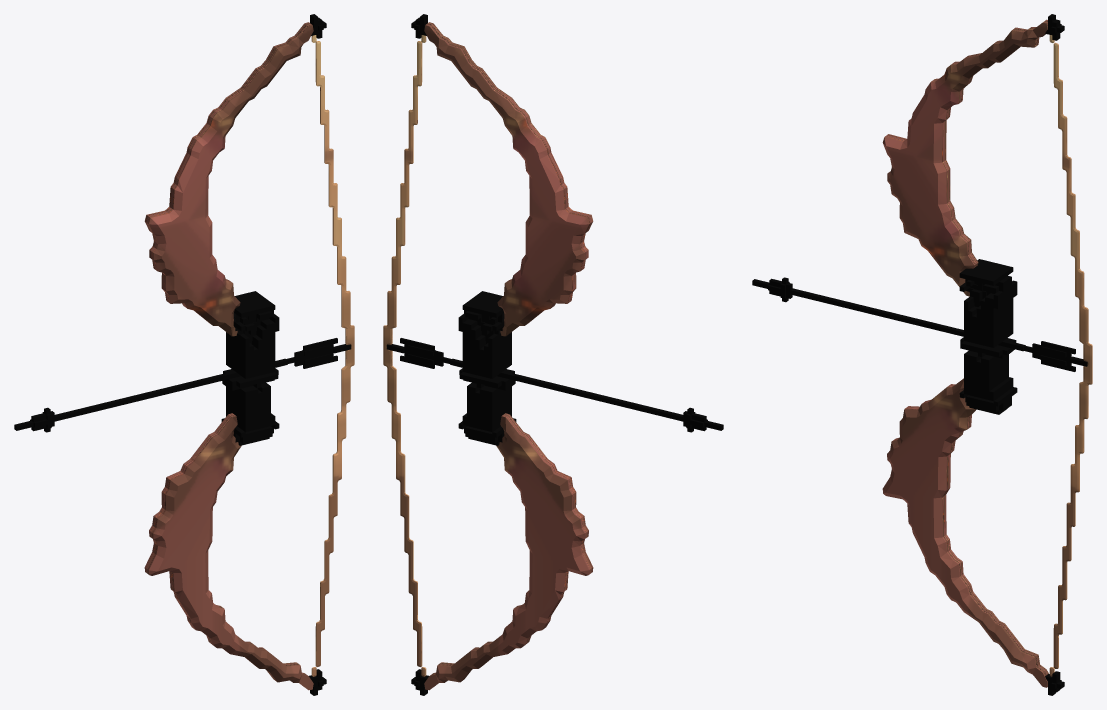
File: ember_bow_pulling_0.obj
The picture shows the model from 3 angles, left to right: view 1: azimuth 30°, elevation 25°; view 2: azimuth 150°, elevation 25°; view 3: azimuth 330°, elevation 25°; orthographic projection.
Parts seen in each view (by area): view 1: ember_bow_pulling_0; view 2: ember_bow_pulling_0; view 3: ember_bow_pulling_0.
Part boxes in pixels (bbox=[...]): ember_bow_pulling_0: bbox=[14, 14, 354, 695]; ember_bow_pulling_0: bbox=[383, 14, 723, 695]; ember_bow_pulling_0: bbox=[752, 14, 1092, 695].
Bounding box in the file's own units: 0.8333 × 1.59 × 0.0833.
